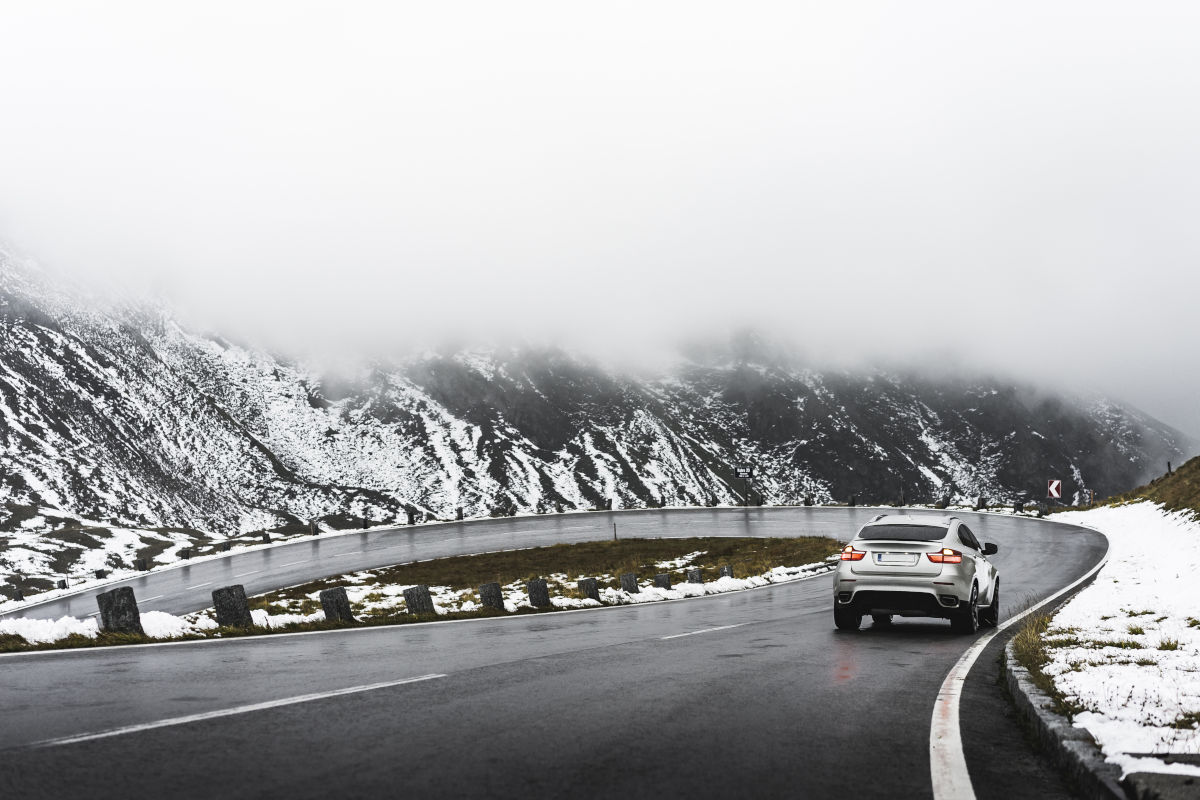car: (835, 511, 1001, 642)
